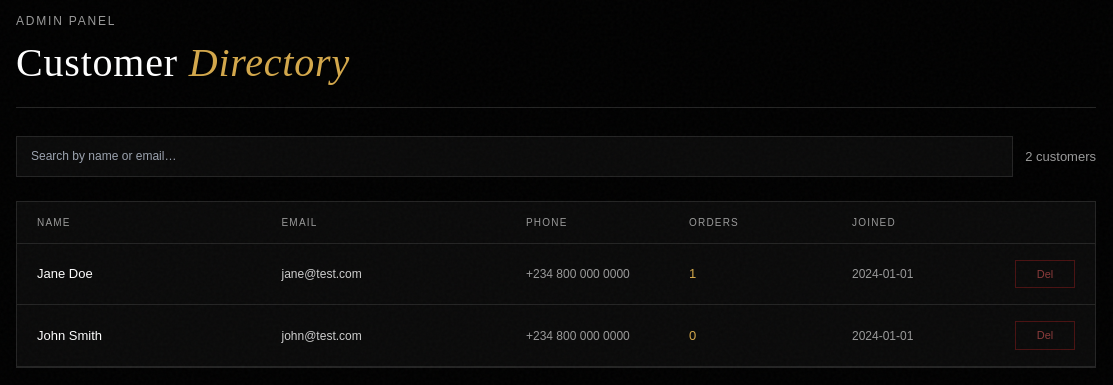
Test: AdminCustomersContent › filters by search term
Type "jane" into the field with placeholder "Search by name or email…" at (515, 157), box [16,136,1013,177]
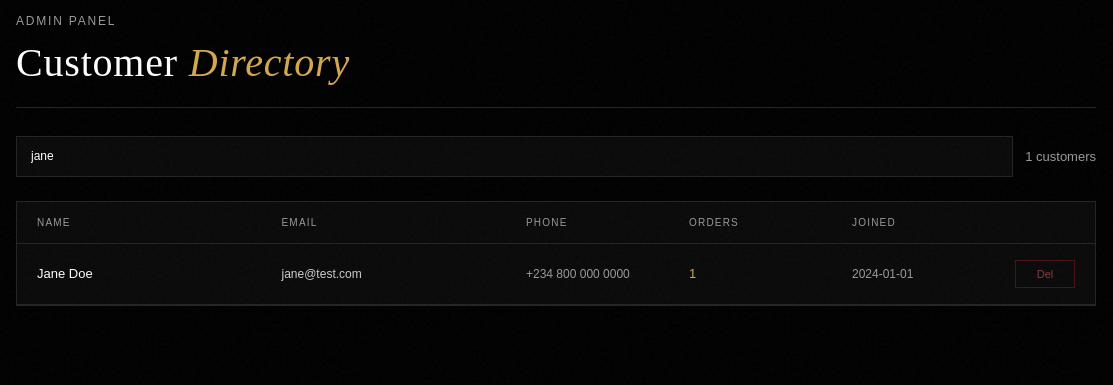
Expected: the text "Jane Doe" is shown, [37,266,93,281]
Expected: the text "John Smith" is gone
